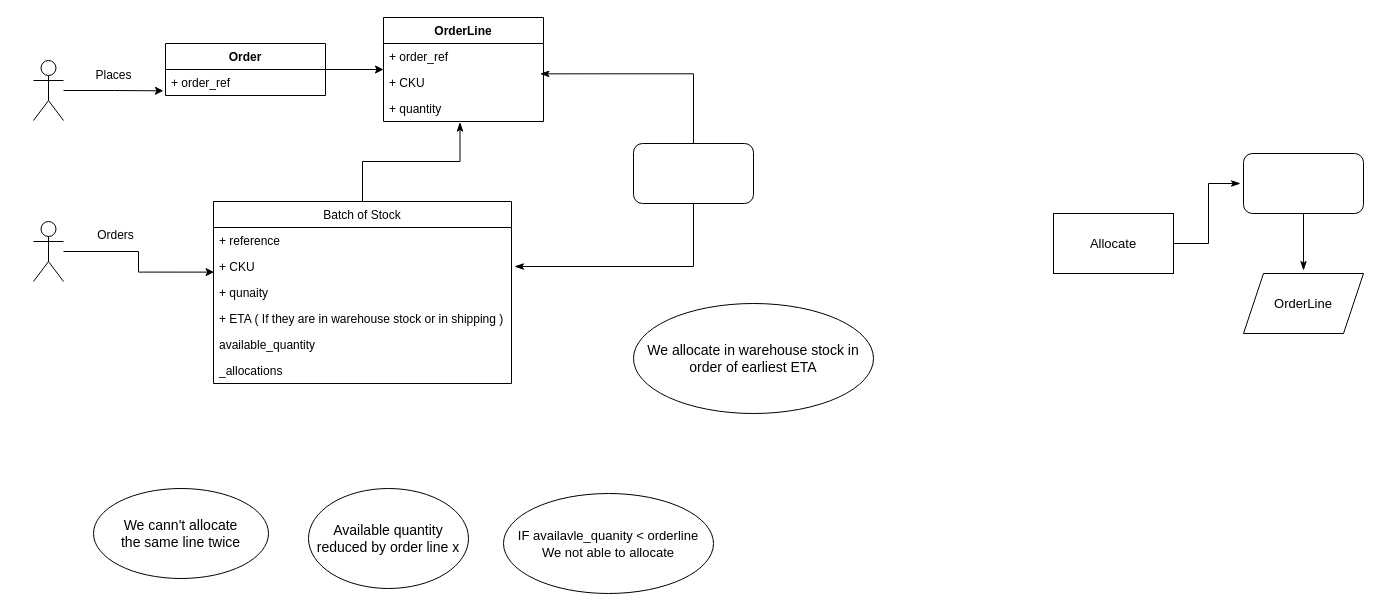
Image size: 1381x611. Some labels were removed from this diagram. The shapes that lost their labels are listed below. From the top down, each one's centre as x and y in pixels, then its label:
At point (48, 90): "Customer".
At point (693, 173): "Allocate()".
At point (1303, 183): "Batch".
At point (48, 251): "Purchasing Department".
